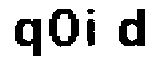0: (49, 7, 80, 49)
d: (114, 2, 150, 55)
i: (83, 6, 101, 48)
q: (8, 16, 44, 60)
